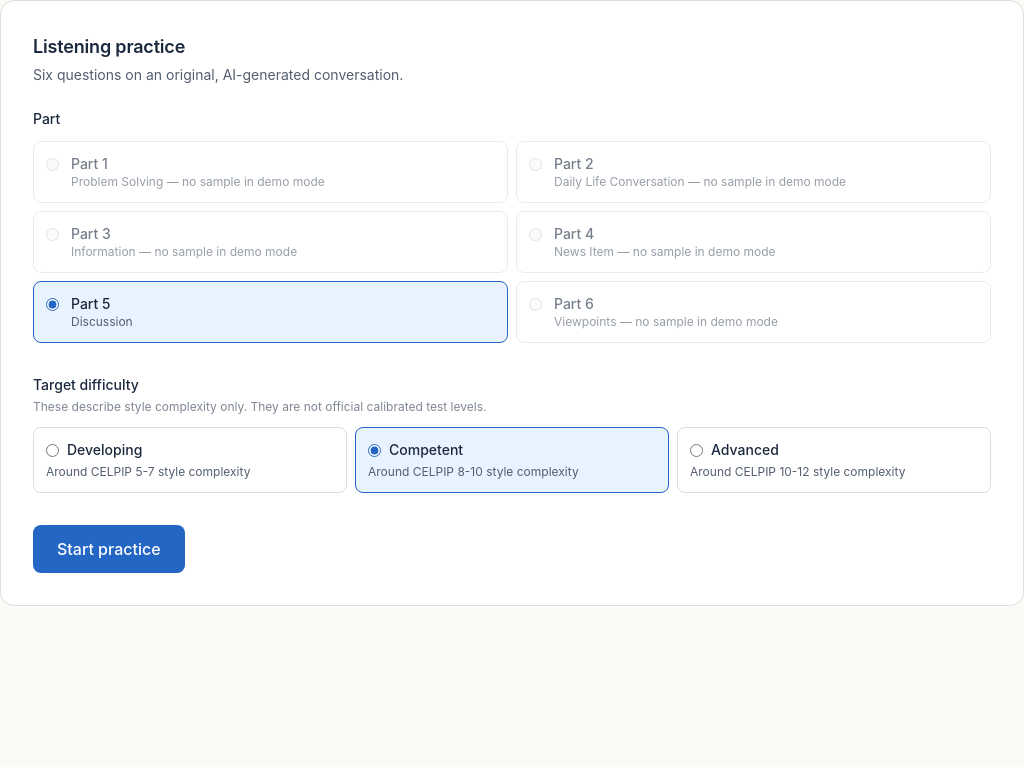
Scenario: ListeningPage › sends the selected options and renders the result
The image size is (1024, 767).
What coordinates should you click on to do the following:
click the button "Start practice"
I would click on:
 (109, 549)
Its box is [33, 525, 185, 573].
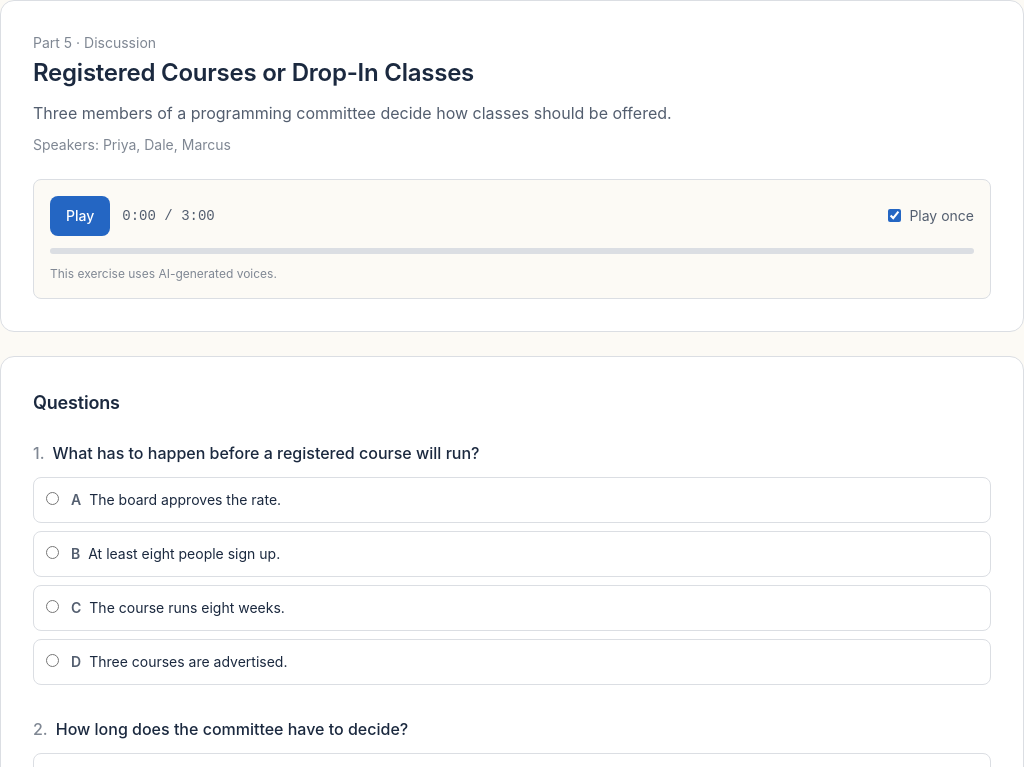
Result: the heading "Registered Courses or Drop-In Classes" is shown at [33, 58, 474, 87]
What coordinates should you click on to do the following:
click the radio button labelled "BAt least eight people sign up."
I would click on:
 (52, 552)
Its box is [46, 546, 59, 559].
(page scrolled)
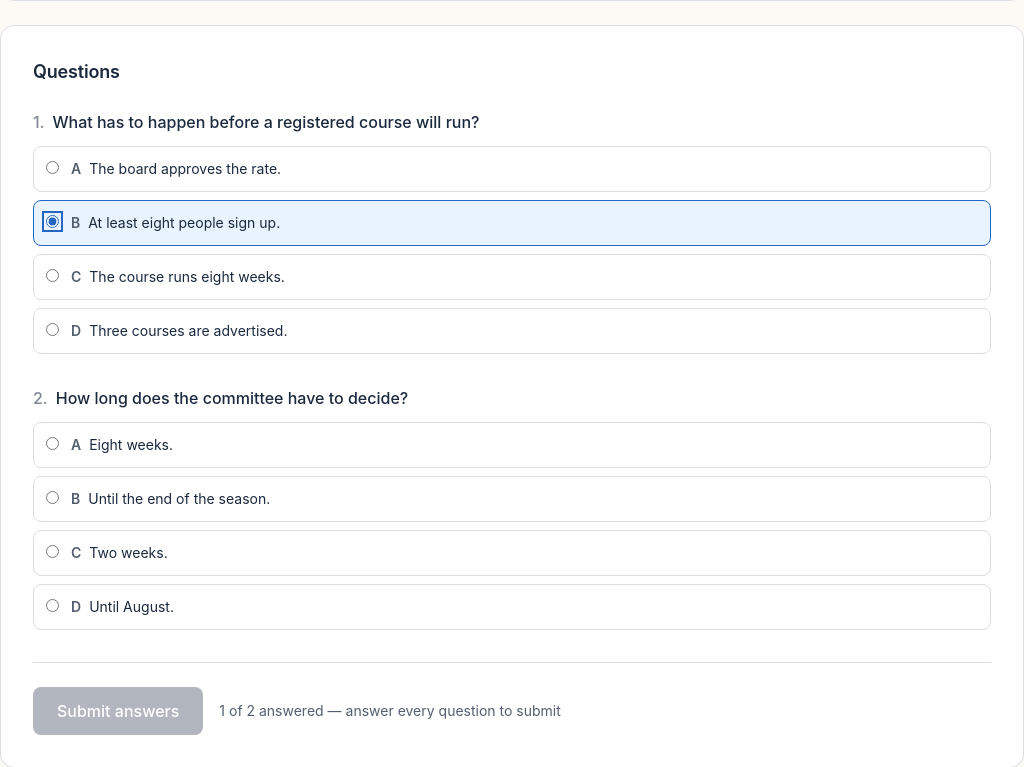
What coordinates should you click on to do the following:
click the radio button labelled "Eight weeks"
I would click on:
 (52, 443)
Its box is [46, 437, 59, 450].
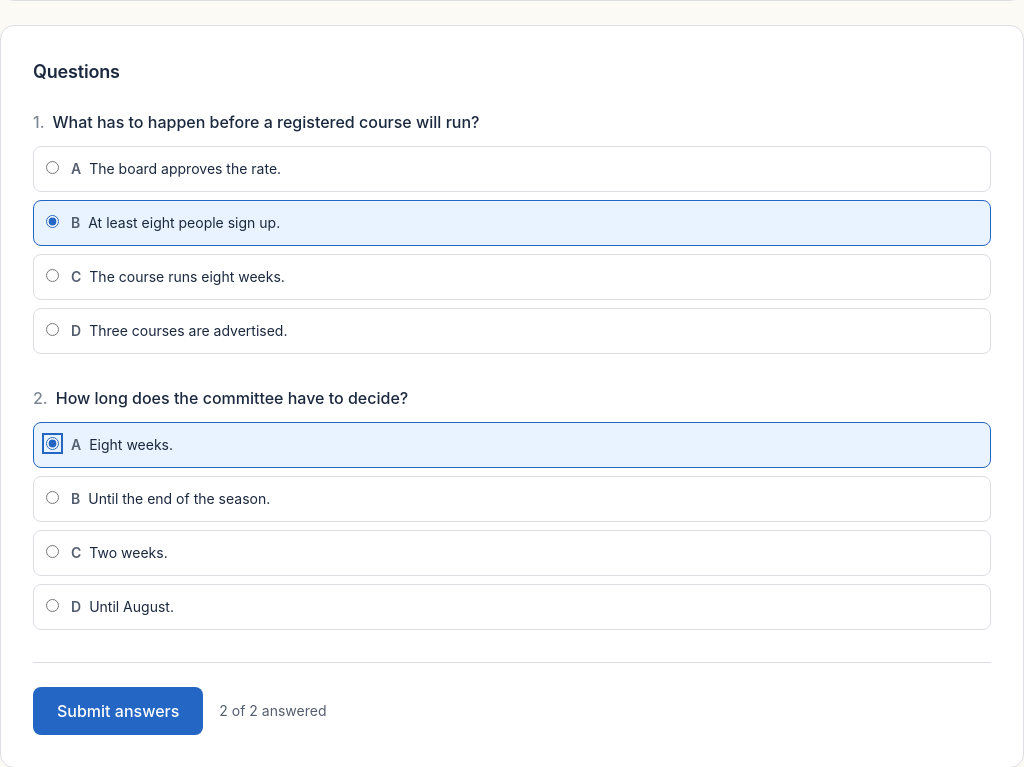
What coordinates should you click on to do the following:
click the button "Submit answers"
I would click on:
 (118, 711)
Its box is [33, 687, 203, 735].
(page scrolled)
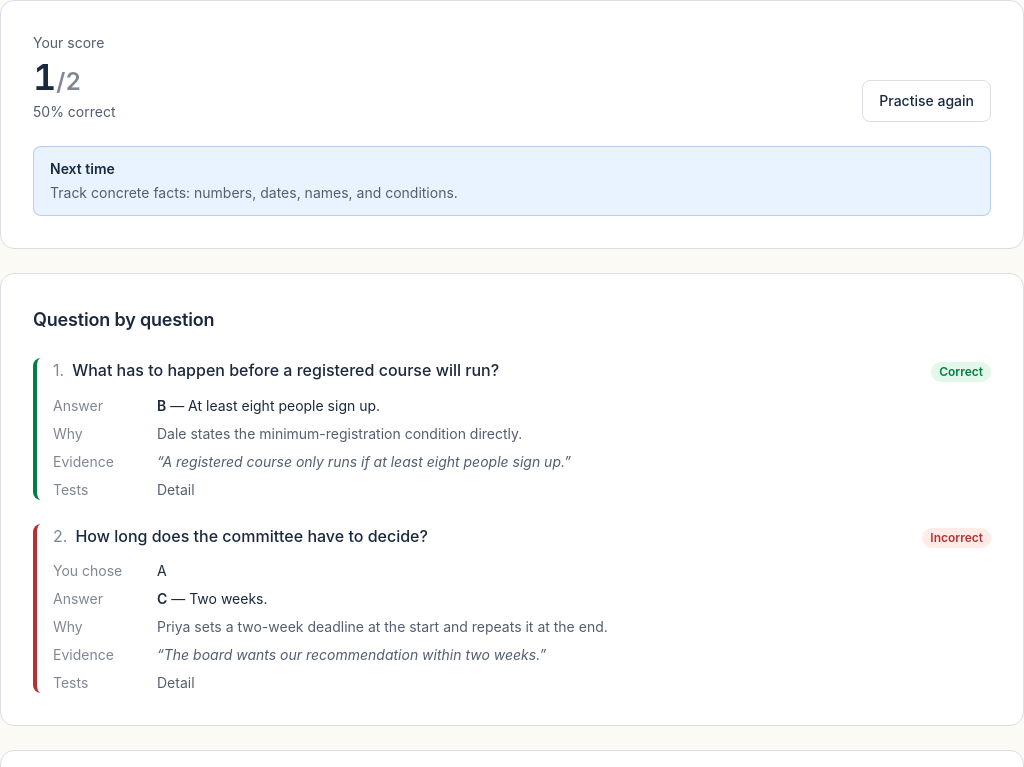
Result: the text "1" is shown at [33, 55, 56, 99]
Result: the text "50% correct" is shown at [33, 102, 116, 122]
